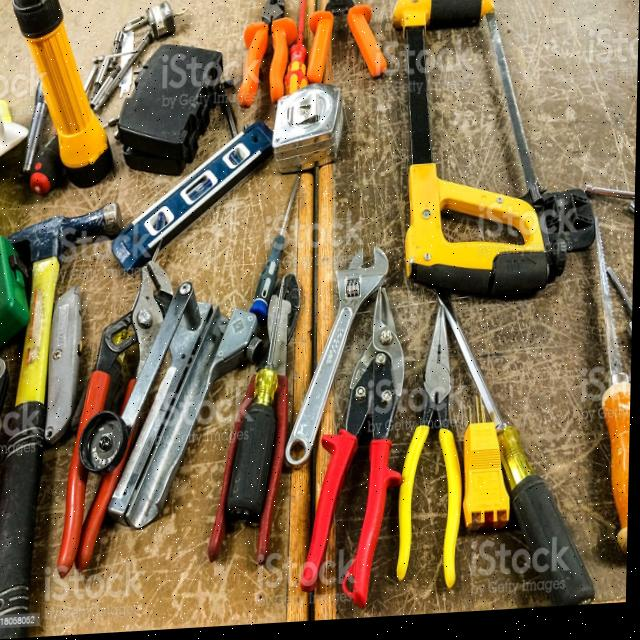Screwdriver: (441, 299, 598, 612), (229, 281, 285, 526), (597, 227, 633, 561), (252, 178, 300, 325), (285, 0, 309, 97)
